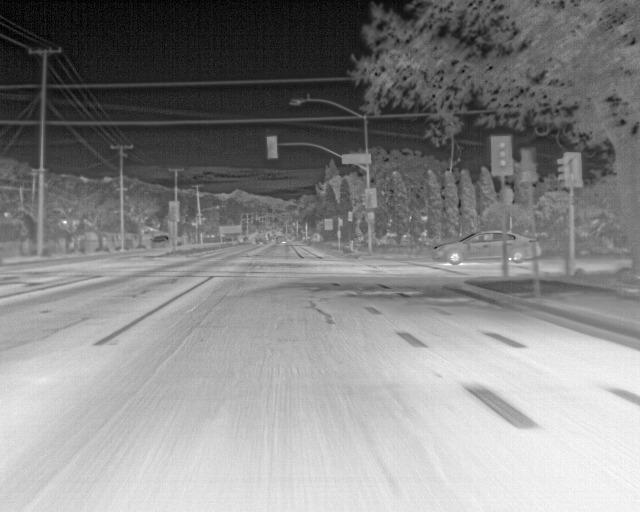car: (432, 230, 542, 265), (150, 235, 170, 249), (255, 236, 267, 245), (276, 235, 287, 244), (238, 236, 250, 244), (268, 236, 275, 241)
light: (497, 140, 507, 170), (557, 158, 567, 187), (170, 204, 178, 222), (368, 190, 376, 207), (269, 138, 275, 156), (361, 193, 367, 206), (368, 212, 374, 219)
sign: (342, 154, 371, 164), (221, 226, 240, 233), (505, 188, 514, 202), (324, 219, 333, 230), (347, 211, 353, 222), (339, 219, 343, 226)
